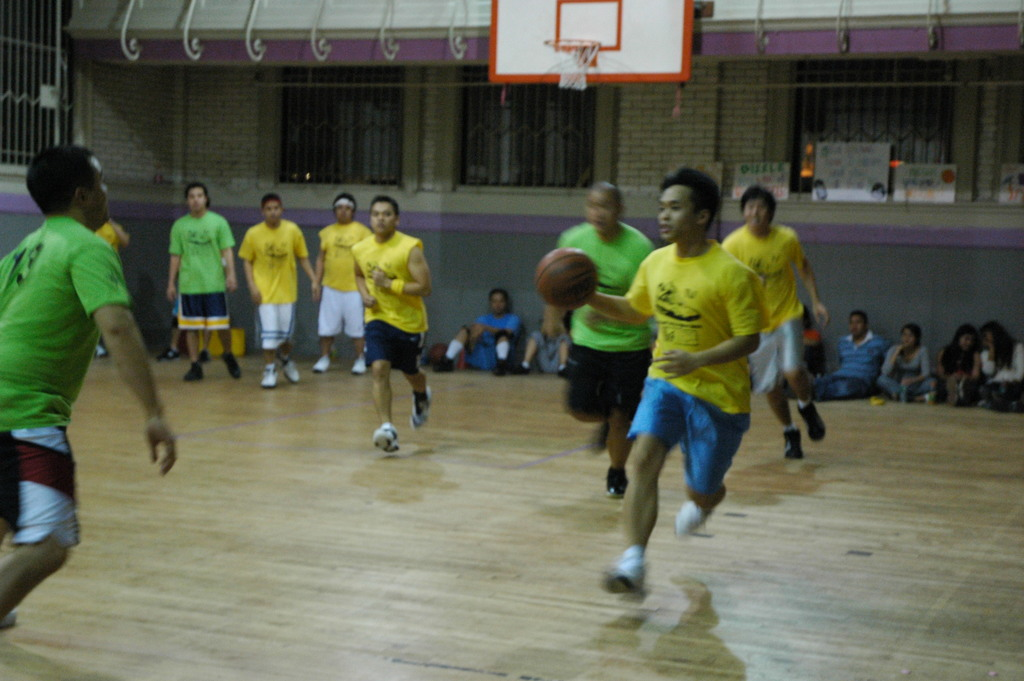Person: (874, 321, 940, 402), (975, 319, 1024, 410), (937, 321, 982, 403)
